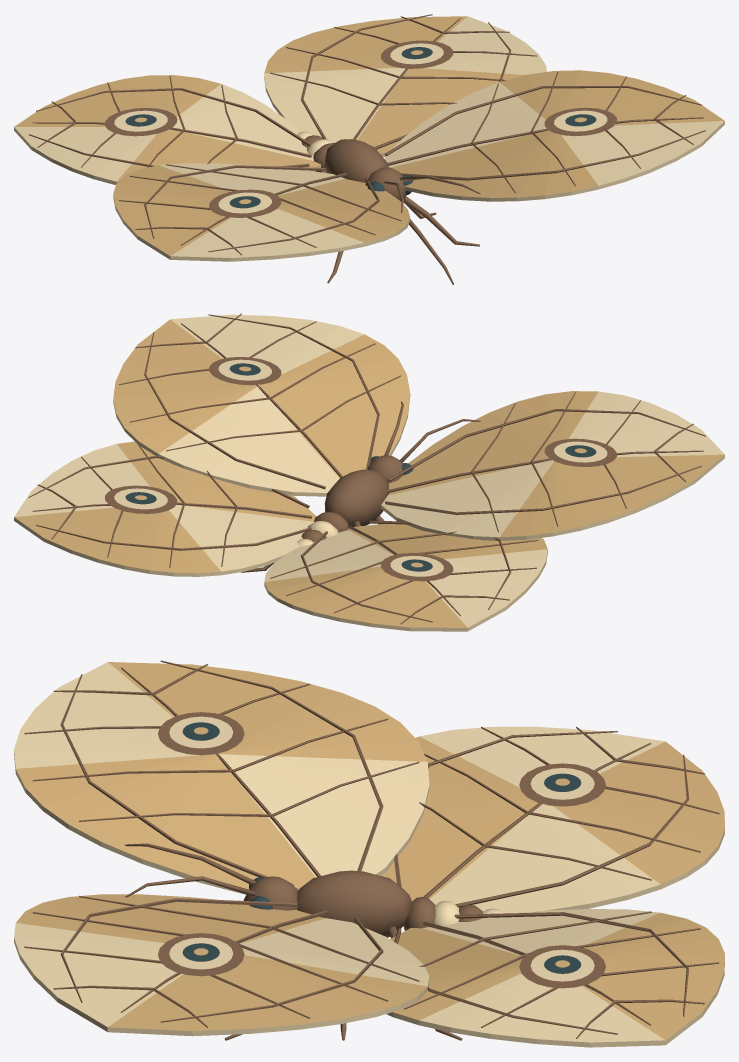
Rendered from kalligramma.glb.
3 renders of one model, top to bottom at view 1: azimuth 30°, elevation 25°; view 2: azimuth 150°, elevation 25°; view 3: azimuth 270°, elevation 25°, orthographic. The views are drawn at different scales.
Visible parts, largest first — view 1: four-volumetric-rounded-wings, branched-wing-veins, four-inlaid-eye-spots, head-thorax-and-segmented-abdomen, six-legs-two-antennae-and-proboscis; view 2: four-volumetric-rounded-wings, branched-wing-veins, four-inlaid-eye-spots, head-thorax-and-segmented-abdomen, six-legs-two-antennae-and-proboscis; view 3: four-volumetric-rounded-wings, branched-wing-veins, four-inlaid-eye-spots, head-thorax-and-segmented-abdomen, six-legs-two-antennae-and-proboscis.
Part boxes in pixels (x1,y1,x2,y2): four-volumetric-rounded-wings: [14, 16, 724, 261]; branched-wing-veins: [28, 14, 705, 255]; four-inlaid-eye-spots: [105, 40, 616, 217]; head-thorax-and-segmented-abdomen: [297, 131, 413, 201]; six-legs-two-antennae-and-proboscis: [321, 170, 480, 284]; four-volumetric-rounded-wings: [14, 314, 724, 631]; branched-wing-veins: [28, 313, 705, 624]; four-inlaid-eye-spots: [105, 357, 616, 581]; head-thorax-and-segmented-abdomen: [297, 455, 413, 545]; six-legs-two-antennae-and-proboscis: [241, 401, 480, 572]; four-volumetric-rounded-wings: [14, 662, 724, 1047]; branched-wing-veins: [24, 660, 719, 1038]; four-inlaid-eye-spots: [158, 712, 605, 988]; head-thorax-and-segmented-abdomen: [243, 870, 503, 937]; six-legs-two-antennae-and-proboscis: [125, 843, 462, 1040].
Size of the model in its own units: 0.1104 by 0.0215 by 0.0905.
